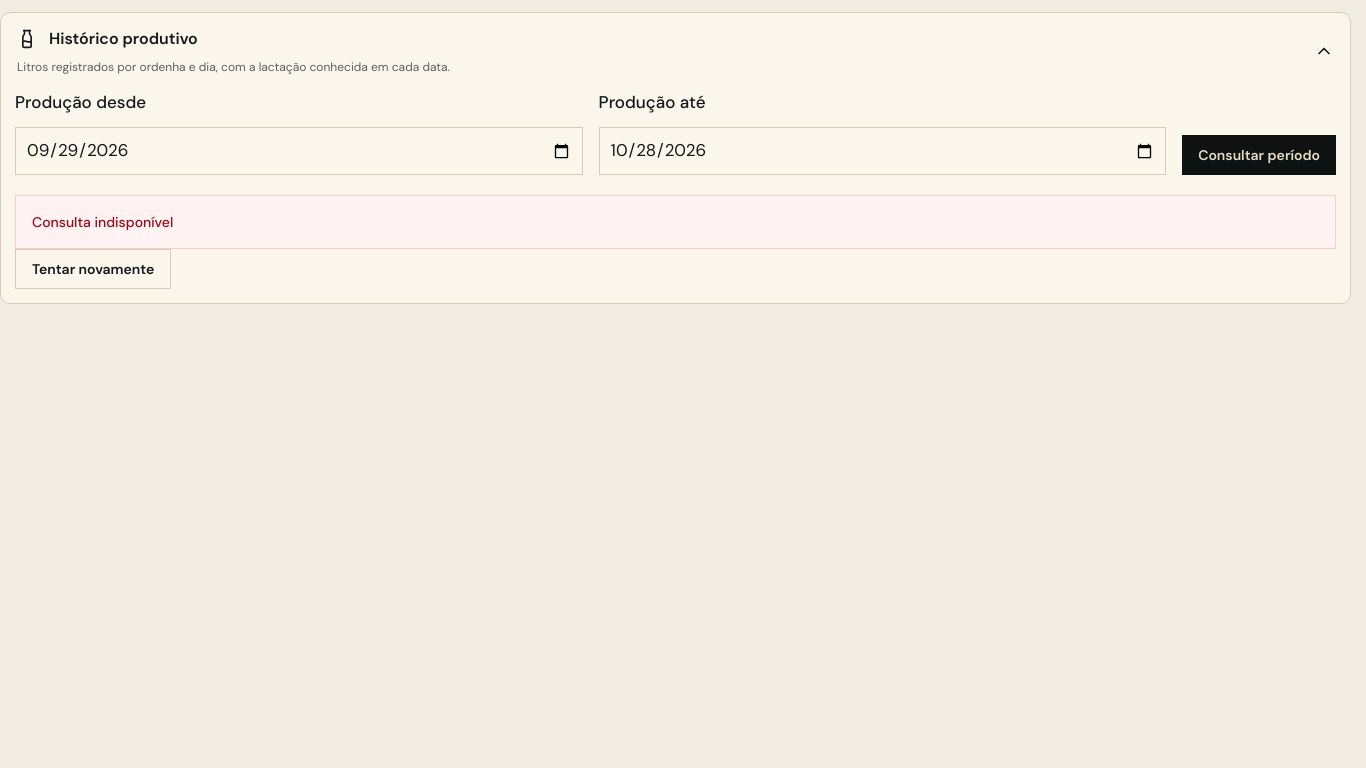
Test: erro de leitura não aparece como ausência e permite nova tentativa
Expected: the text "Consulta indisponível" is shown, [15, 195, 1336, 249]
Click the button "Tentar novamente" at (93, 269), box [15, 249, 171, 289]
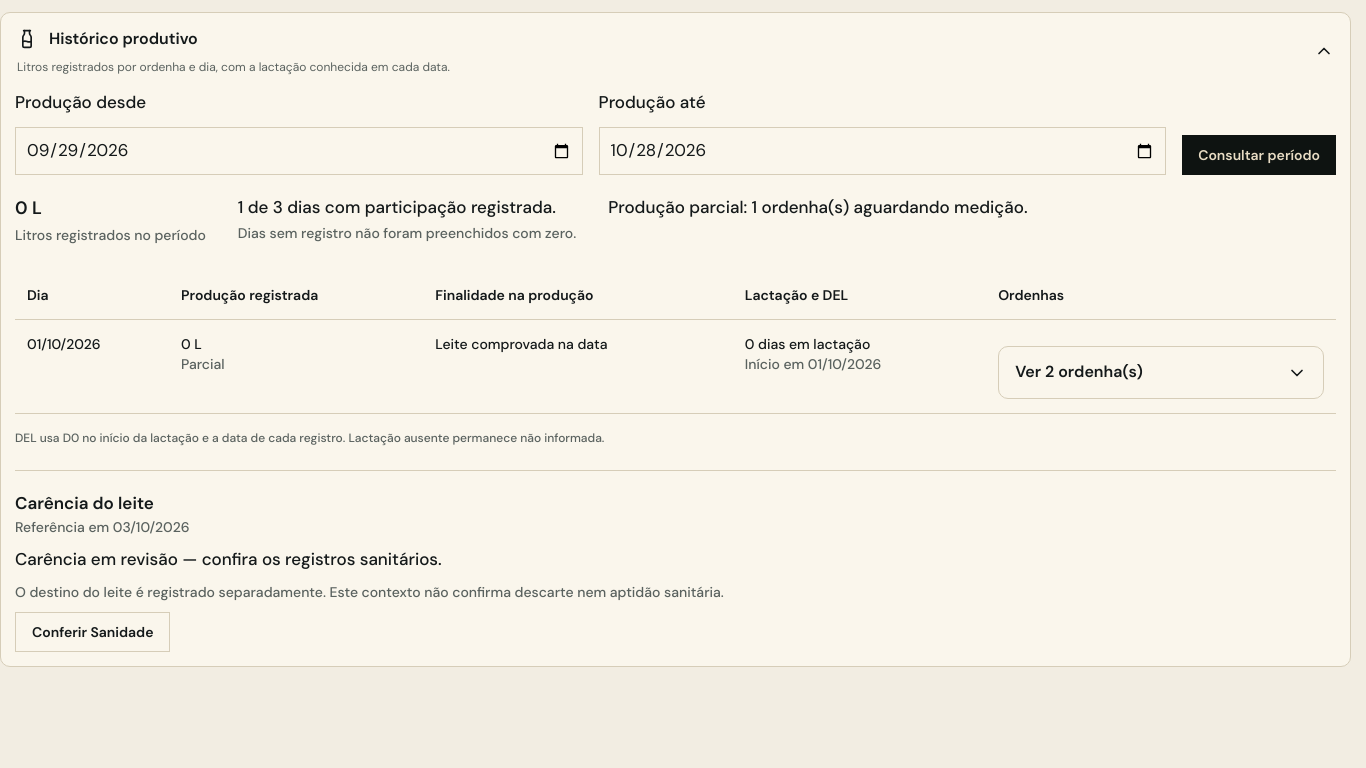
Expected: the text "0 dias em lactação" is shown, [745, 335, 870, 353]
